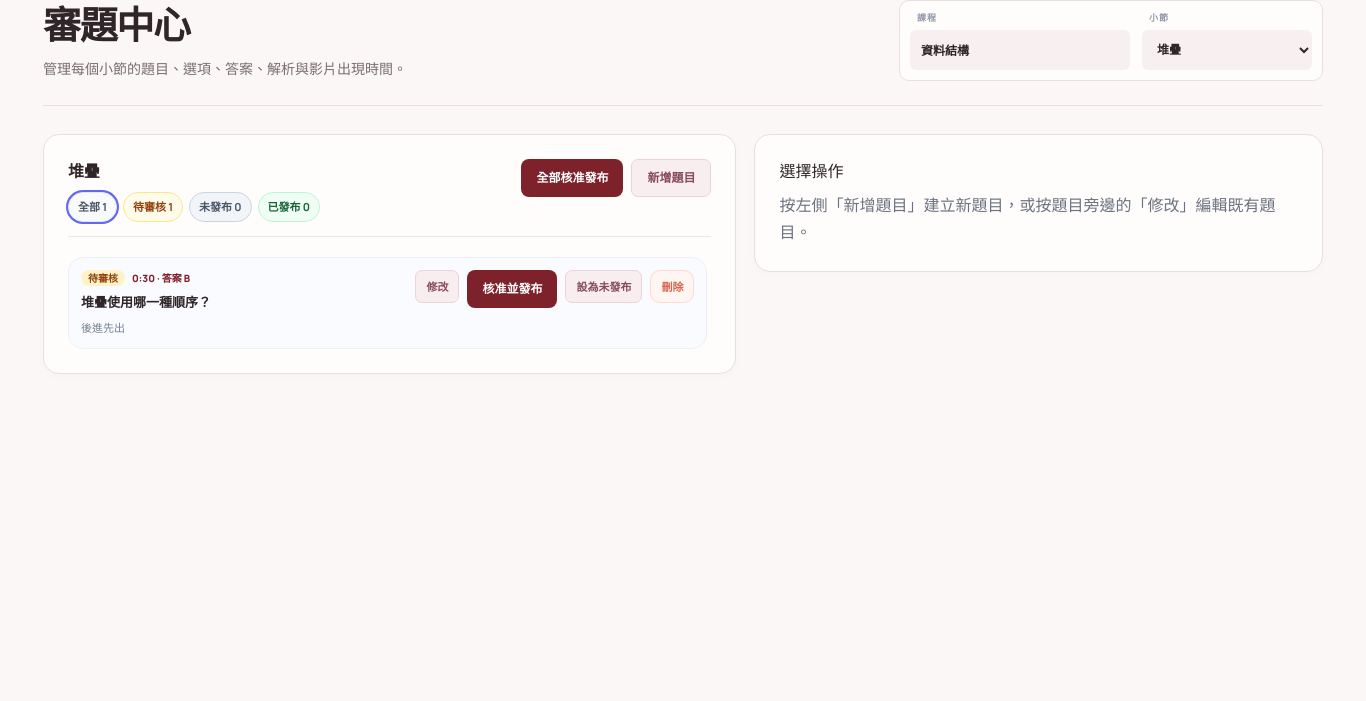
Test case: uses the selected knowledge point end time when it is available
Expected: the text "堆疊使用哪一種順序？" is shown, [81,293,211,311]
Click the button "新增題目": x=671, y=178 [631,159,711,197]
(page scrolled)
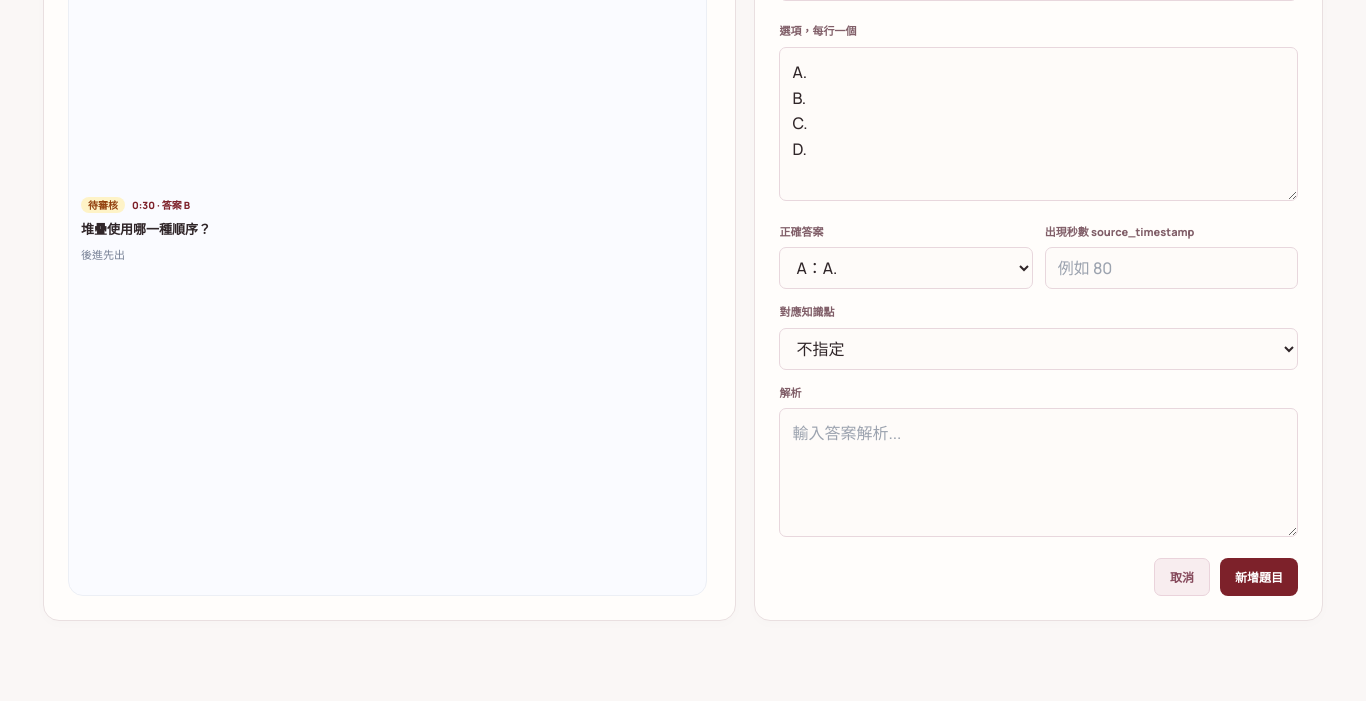
Select "堆疊操作" in the dropdown labelled "對應知識點": x=1039, y=349 [779,328,1298,370]
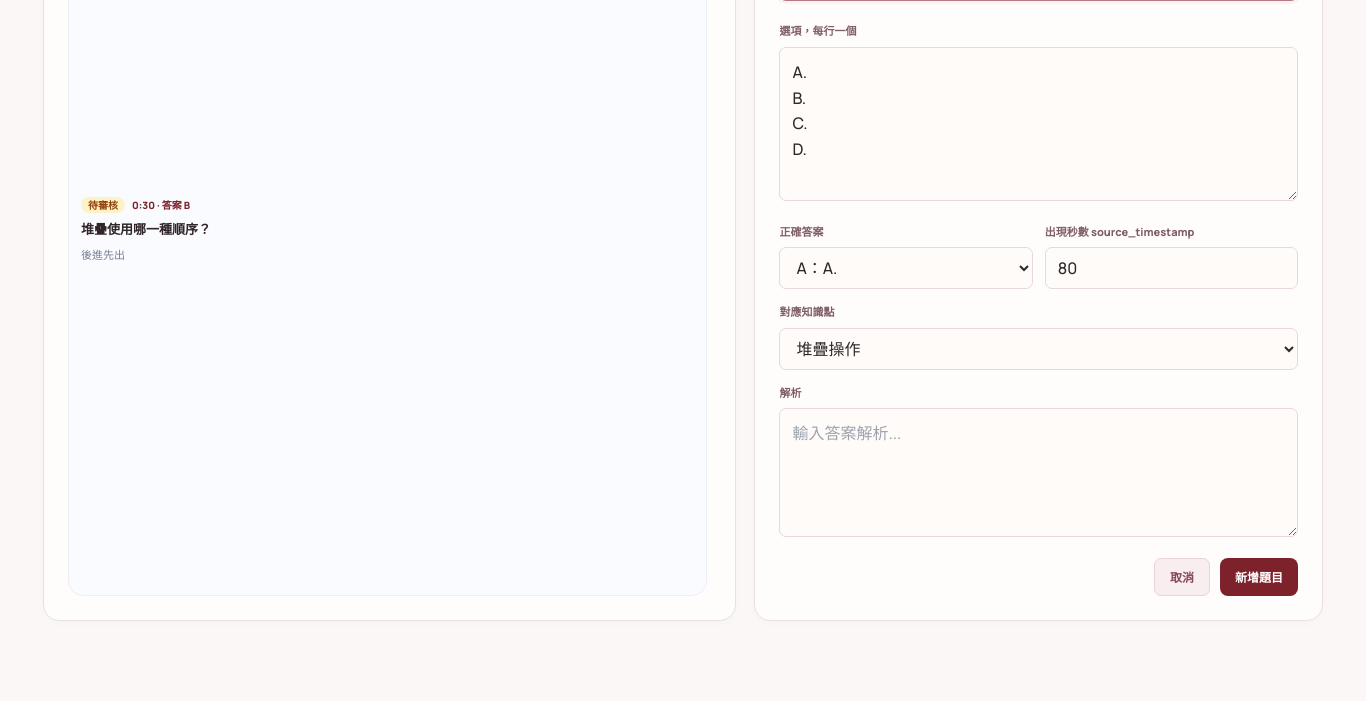
Result: the number field labelled "出現秒數 source_timestamp" holds "80" at [1045,247,1298,289]
